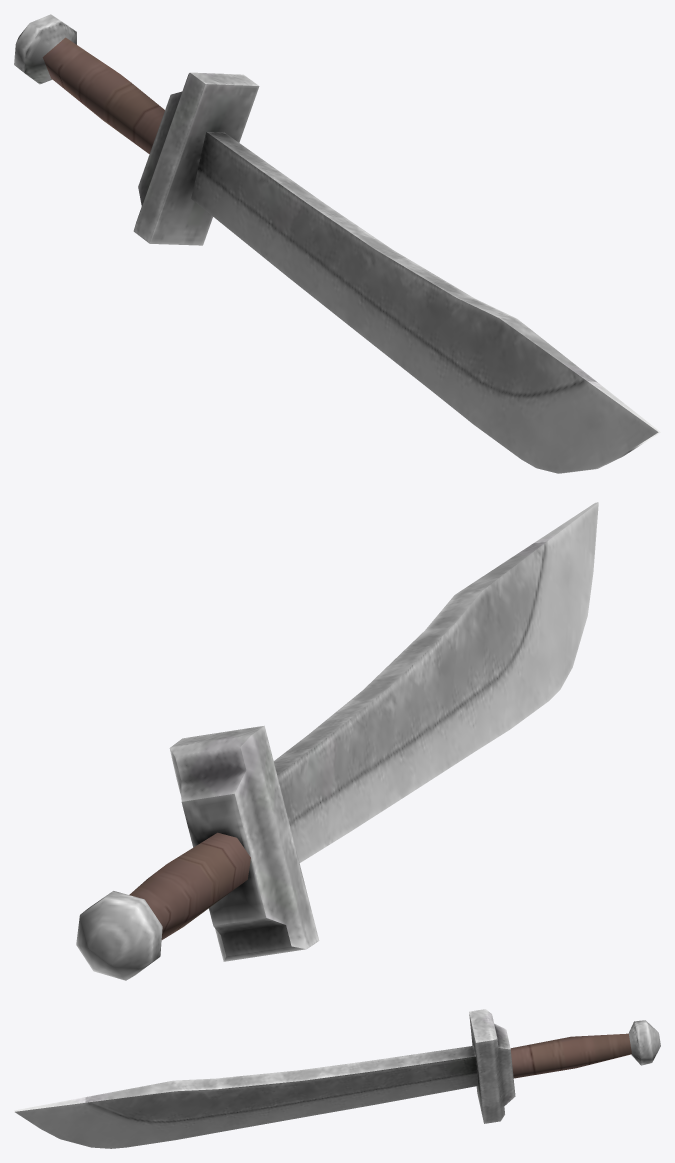
Rendered from weapon-copperweapons.glb.
3 renders of one model, top to bottom at view 1: azimuth 30°, elevation 25°; view 2: azimuth 150°, elevation 25°; view 3: azimuth 270°, elevation 25°, orthographic. The views are drawn at different scales.
Bounding box in the file's own units: 0.1744 × 0.2145 × 1.02.
Materials: 1 (1 with a texture image).
